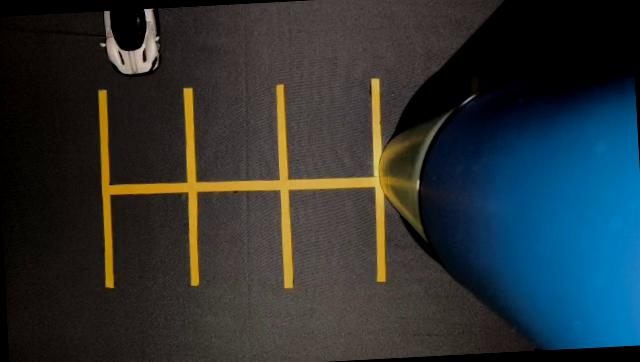toy_car: (77, 7, 190, 92)
